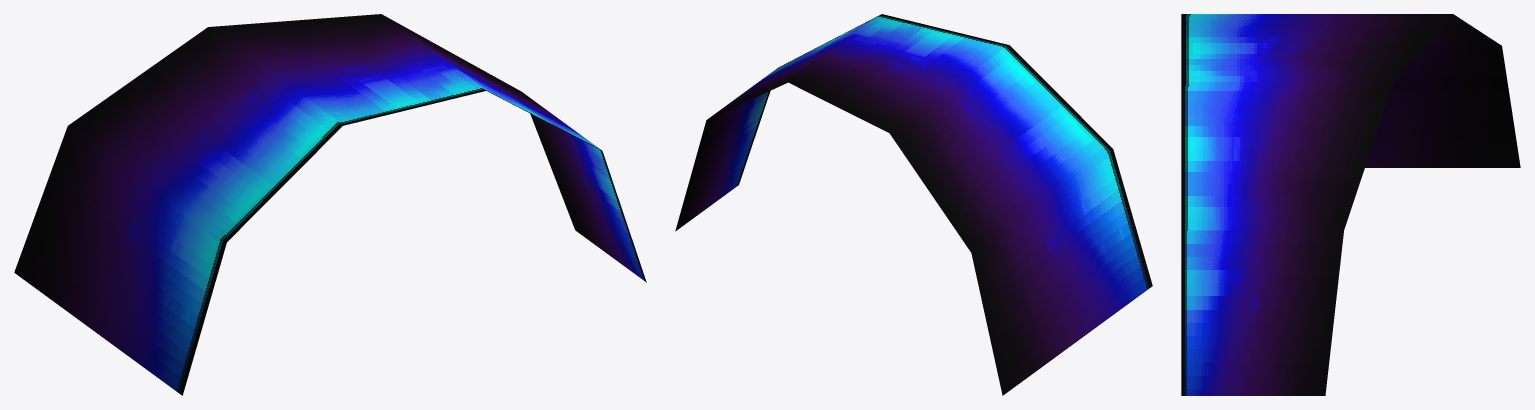
The model's file is Model_HalfCircle01.FBX.
3 views of the same model, side by side, from view 1: azimuth 30°, elevation 25°; view 2: azimuth 150°, elevation 25°; view 3: azimuth 270°, elevation 25° (orthographic). The views are drawn at different scales.
Parts seen in each view (by area): view 1: Model_HalfCircle; view 2: Model_HalfCircle; view 3: Model_HalfCircle.
Part boxes in pixels (bbox=[...]): Model_HalfCircle: bbox=[14, 14, 646, 395]; Model_HalfCircle: bbox=[675, 14, 1152, 395]; Model_HalfCircle: bbox=[1181, 14, 1520, 395].
Size of the model in its own units: 2.79 by 1.33 by 1.75.
